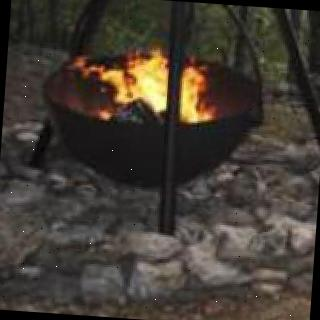fire: (94, 29, 221, 140)
